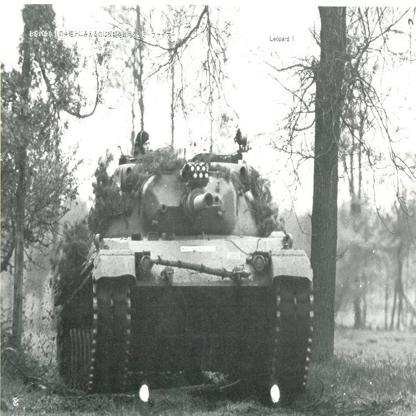Tank: (58, 134, 320, 411)
